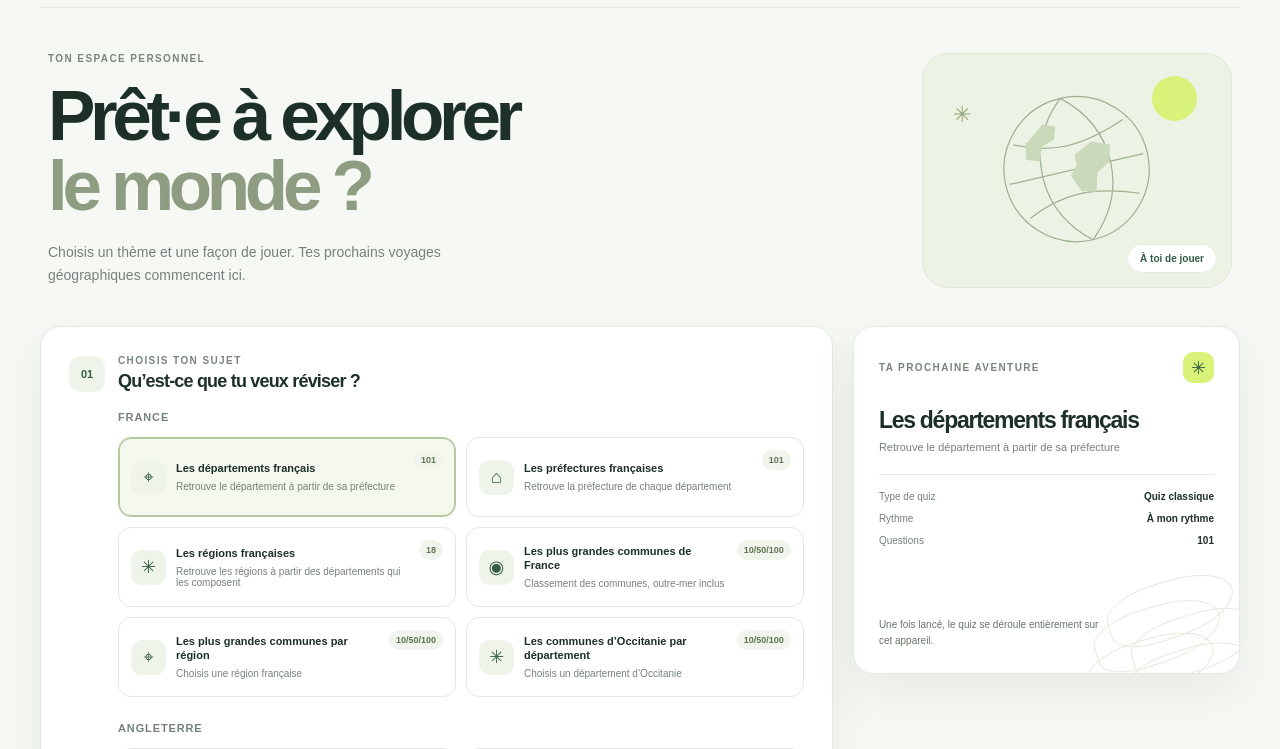
Test: GeoLearner page interactions › places quiz settings beneath the answer format and makes them available
Click the button "Les plus grandes communes de France".
click(496, 567)  # box [466,527,804,607]
(page scrolled)
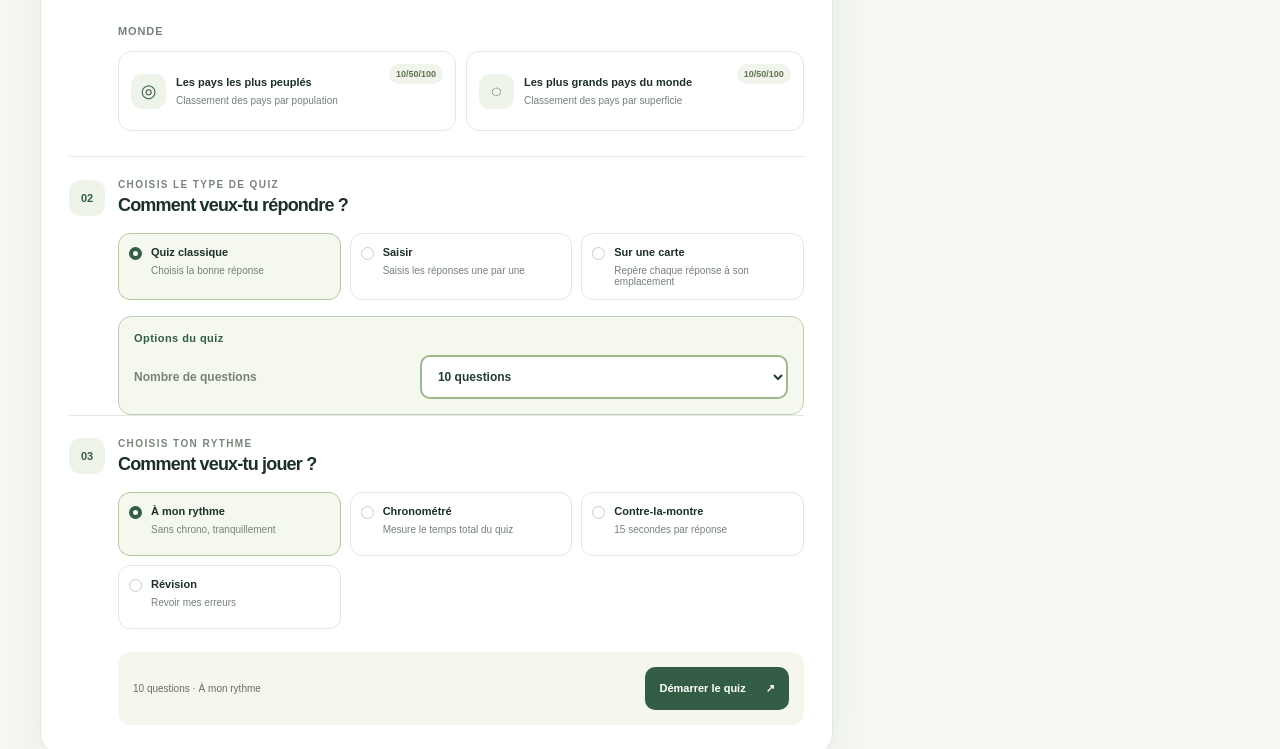
Expected: the dropdown labelled "Nombre de questions" is shown, [420,355,788,399]
